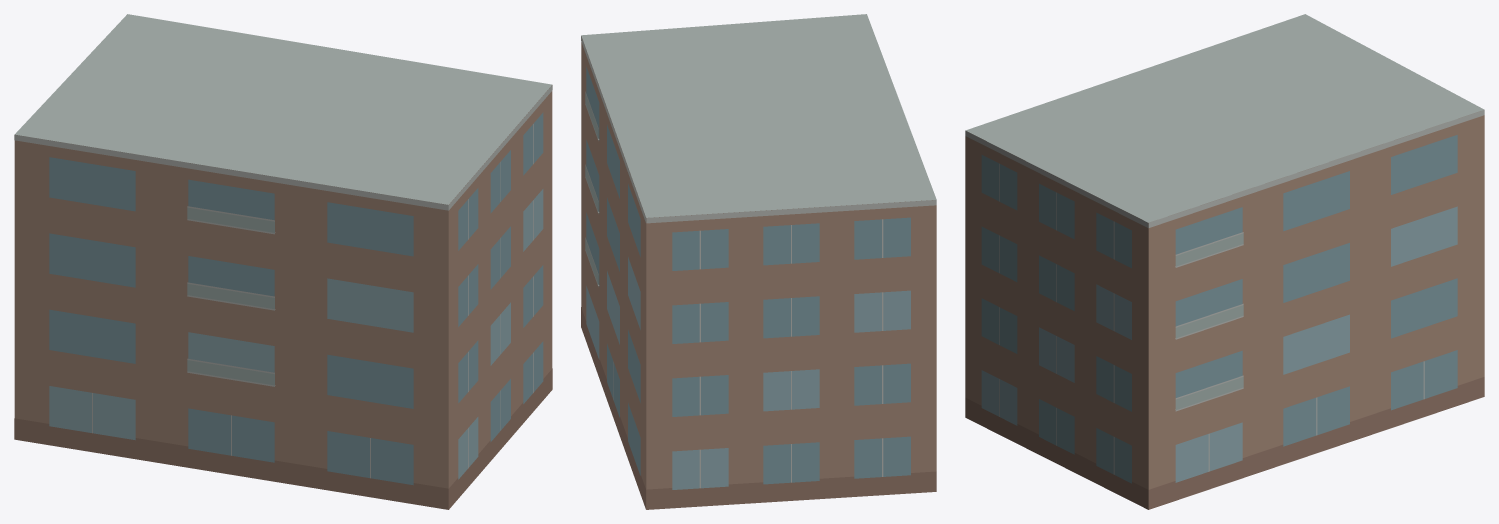
The model's file is survey-upis-32746884.glb.
The picture shows the model from 3 angles, left to right: view 1: azimuth 30°, elevation 25°; view 2: azimuth 150°, elevation 25°; view 3: azimuth 270°, elevation 25°; orthographic projection. The views are drawn at different scales.
Visible parts, largest first — view 1: survey-upis-32746884.tmp; view 2: survey-upis-32746884.tmp; view 3: survey-upis-32746884.tmp.
Part boxes in pixels (x1,y1,x2,y2): survey-upis-32746884.tmp: (14,14,552,509); survey-upis-32746884.tmp: (581,14,936,509); survey-upis-32746884.tmp: (965,14,1484,509).
Size of the model in its own units: 20.13 by 12.9 by 21.16.
